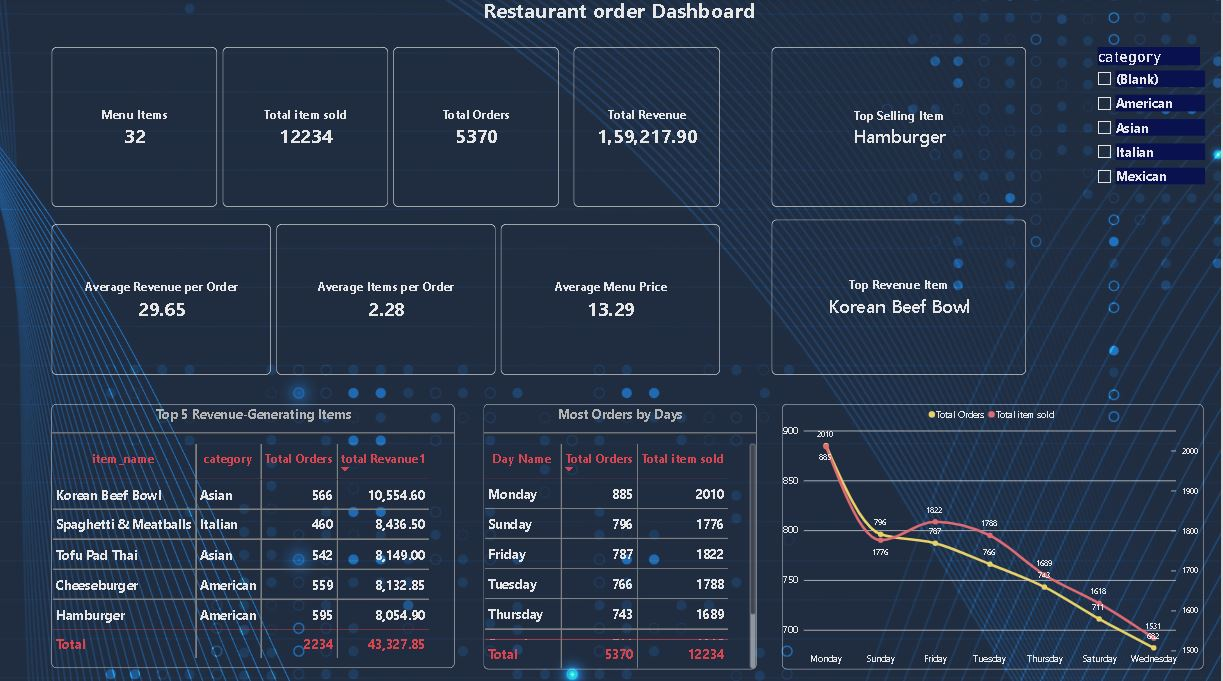

Layout of this report page (visuals, bound fields, positions):
{"tool":"powerbi","page":{"name":"Page 1","canvas":[1920,1080],"ordinal":0},"visuals":[{"type":"cardVisual","fields":{"Data":["public order_details.Top Selling Item"]},"box":[1216.8,79.7,398.6,250.9],"z":0},{"type":"cardVisual","fields":{"Data":["Total_item_price.total Revanue1"]},"box":[907.3,79.7,229.8,250.9],"z":1000},{"type":"slicer","fields":{"Values":["public menu_items.category"]},"box":[1718.5,79.7,175.8,234.4],"z":2000},{"type":"cardVisual","fields":{"Data":["public menu_items.Menu Items","public menu_items.Total Quantity","public menu_items.Total Orders"]},"box":[91.4,79.7,794.8,250.9],"z":3000},{"type":"cardVisual","fields":{"Data":["public menu_items.Average Revenue per Order","public menu_items.Average Items per Order","public menu_items.Average Menu Price"]},"box":[91.4,356.4,1045.6,236.8],"z":4000},{"type":"cardVisual","fields":{"Data":["public order_details.Top Revenue Item"]},"box":[1216.8,349.3,398.6,243.8],"z":5000},{"type":"tableEx","title":"Top 5 Revenue-Generating Items","fields":{"Values":["public menu_items.item_name","public menu_items.category","public menu_items.Total Orders","Total_item_price.total Revanue1"]},"box":[92.5,637.5,630,412.5],"z":6000},{"type":"tableEx","title":"Most Orders by Days","fields":{"Values":["public order_details.Day Name","public menu_items.Total Orders","public menu_items.Total item sold"]},"box":[765.9,636.6,426.8,414.6],"z":7000},{"type":"lineChart","fields":{"Category":["public order_details.Day Name"],"Y2":["public menu_items.Total item sold"],"Y":["public menu_items.Total Orders"]},"box":[1234.1,636.6,658.5,414.6],"z":7001},{"type":"textbox","box":[55,0,1815,80],"z":7002}]}

Visuals, with their boxes in screenshot pixels (x1, y1, x2, y2), scaled from the page's 1920x1080 canvas onto the 1223x681 screenshot:
cardVisual - public order_details.Top Selling Item: 775 50 1029 208
cardVisual - Total_item_price.total Revanue1: 578 50 724 208
slicer - public menu_items.category: 1095 50 1207 198
cardVisual - public menu_items.Menu Items x public menu_items.Total Quantity: 58 50 564 208
cardVisual - public menu_items.Average Revenue per Order x public menu_items.Average Items per Order: 58 225 724 374
cardVisual - public order_details.Top Revenue Item: 775 220 1029 374
"Top 5 Revenue-Generating Items" tableEx: 59 402 460 662
"Most Orders by Days" tableEx: 488 401 760 663
lineChart - public order_details.Day Name x public menu_items.Total item sold: 786 401 1206 663
textbox: 35 0 1191 50
